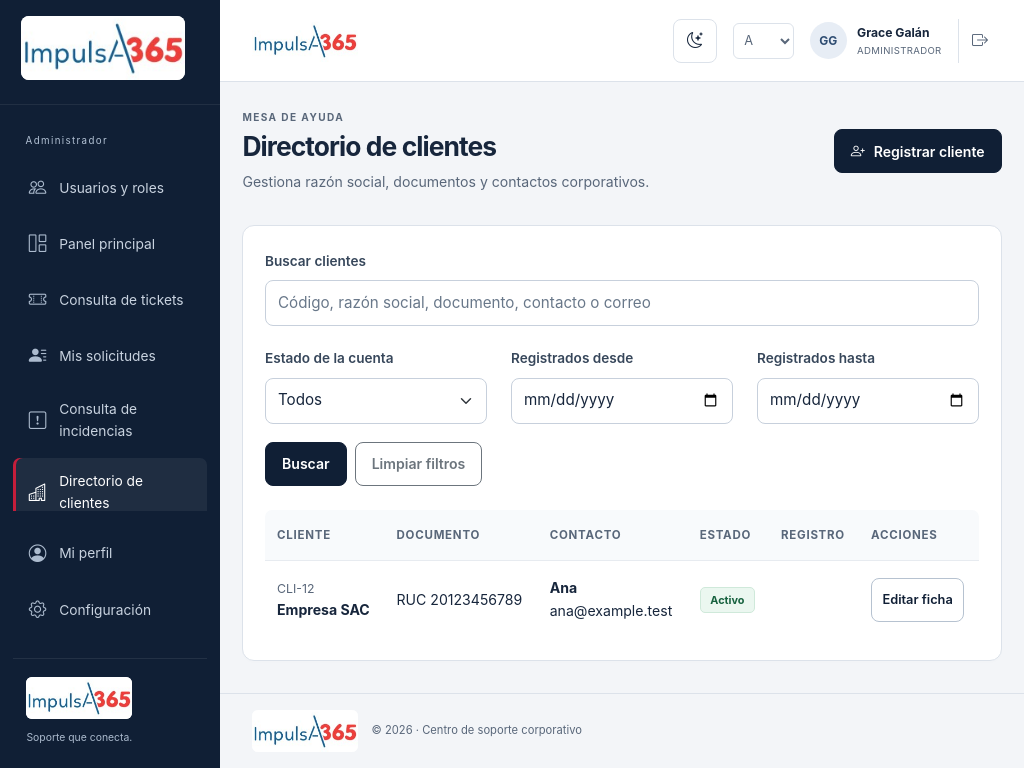
Test: RF del AVPF2 › edita los datos corporativos del cliente en su módulo propio
Click the button "Editar ficha": (918, 600) [871,578,964,622]
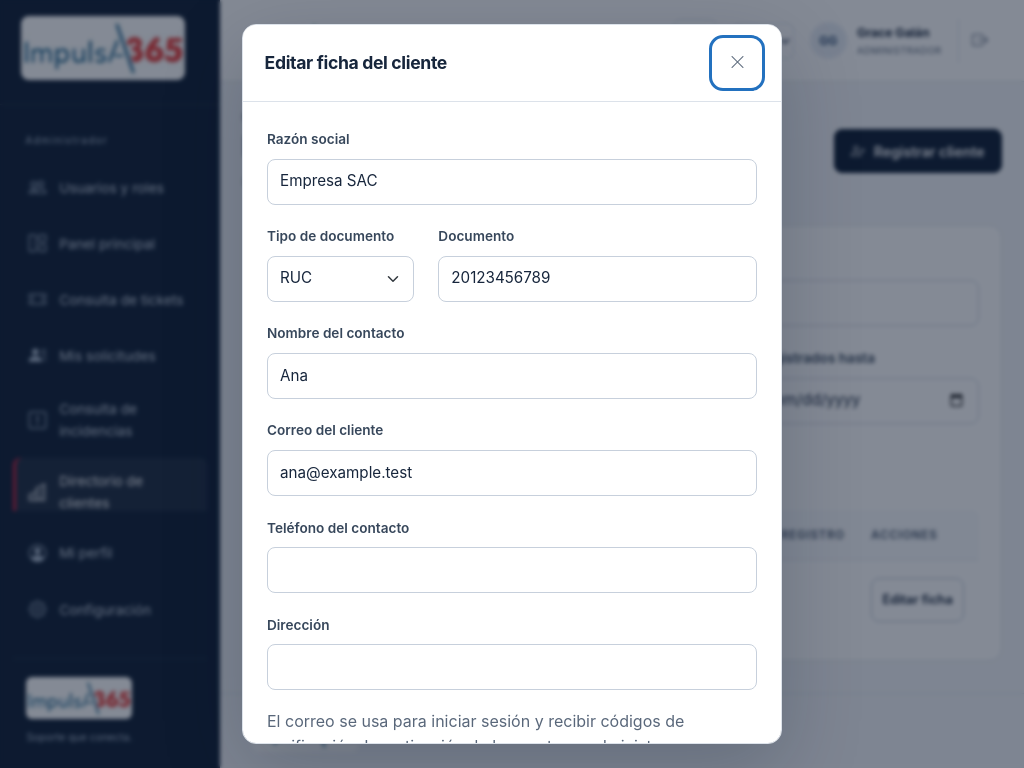
Replace the text in the field labelled "Razón social" with "Empresa Actualizada SAC": (512, 182) [267,159,757,205]
(page scrolled)
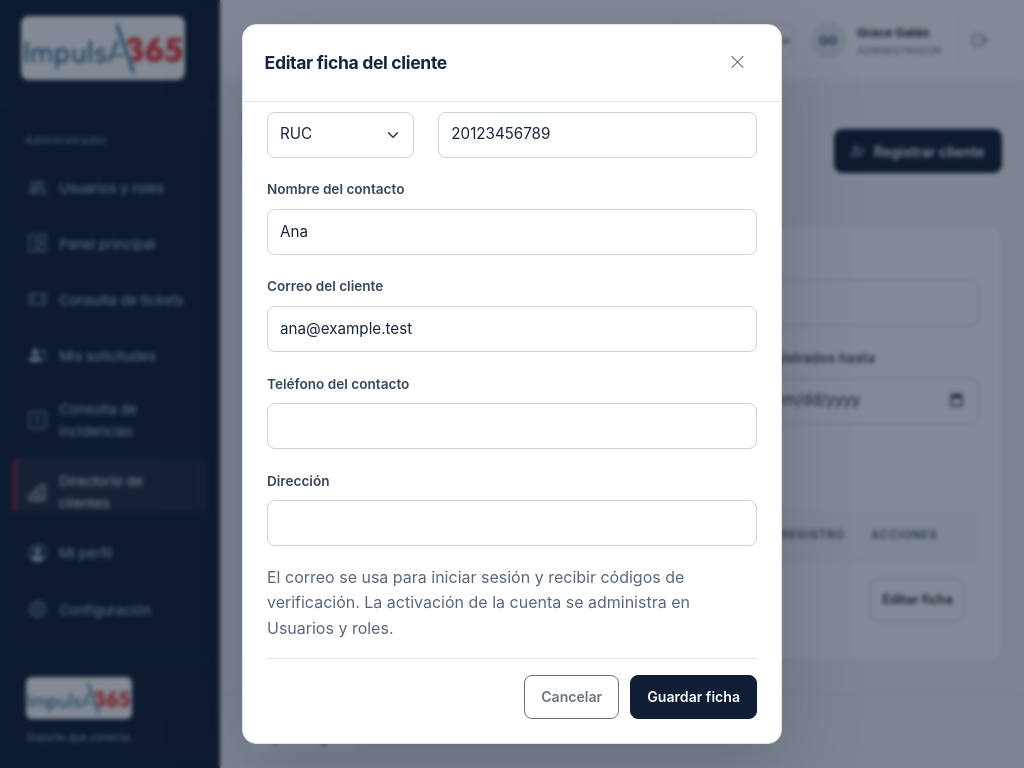
Click the button "Guardar ficha": (694, 697) [630,675,757,719]
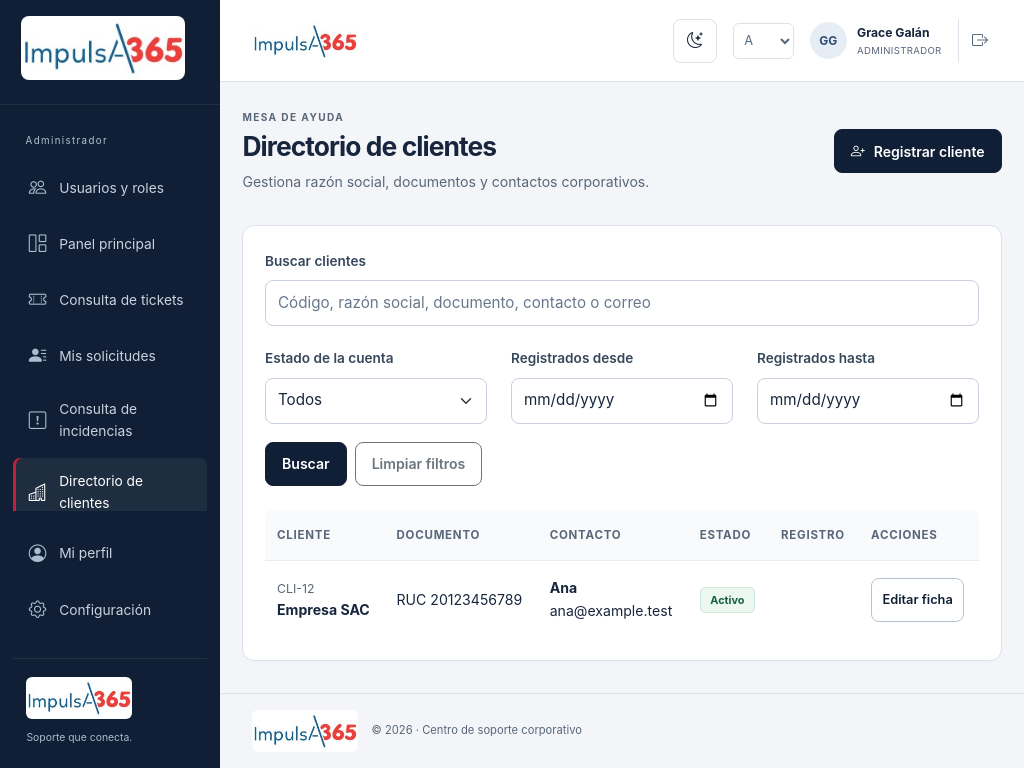
Expected: the dialog is gone
